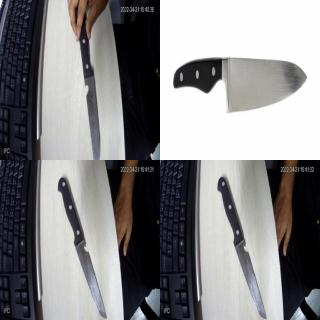knife: (213, 20, 307, 126), (52, 173, 110, 320), (216, 174, 271, 320), (66, 14, 102, 160)
